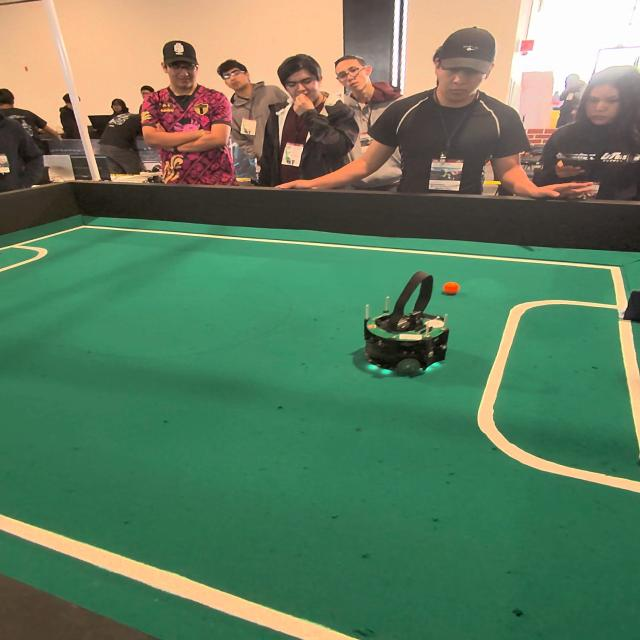Robot: (352, 266, 452, 388)
pelota: (445, 277, 460, 298)
